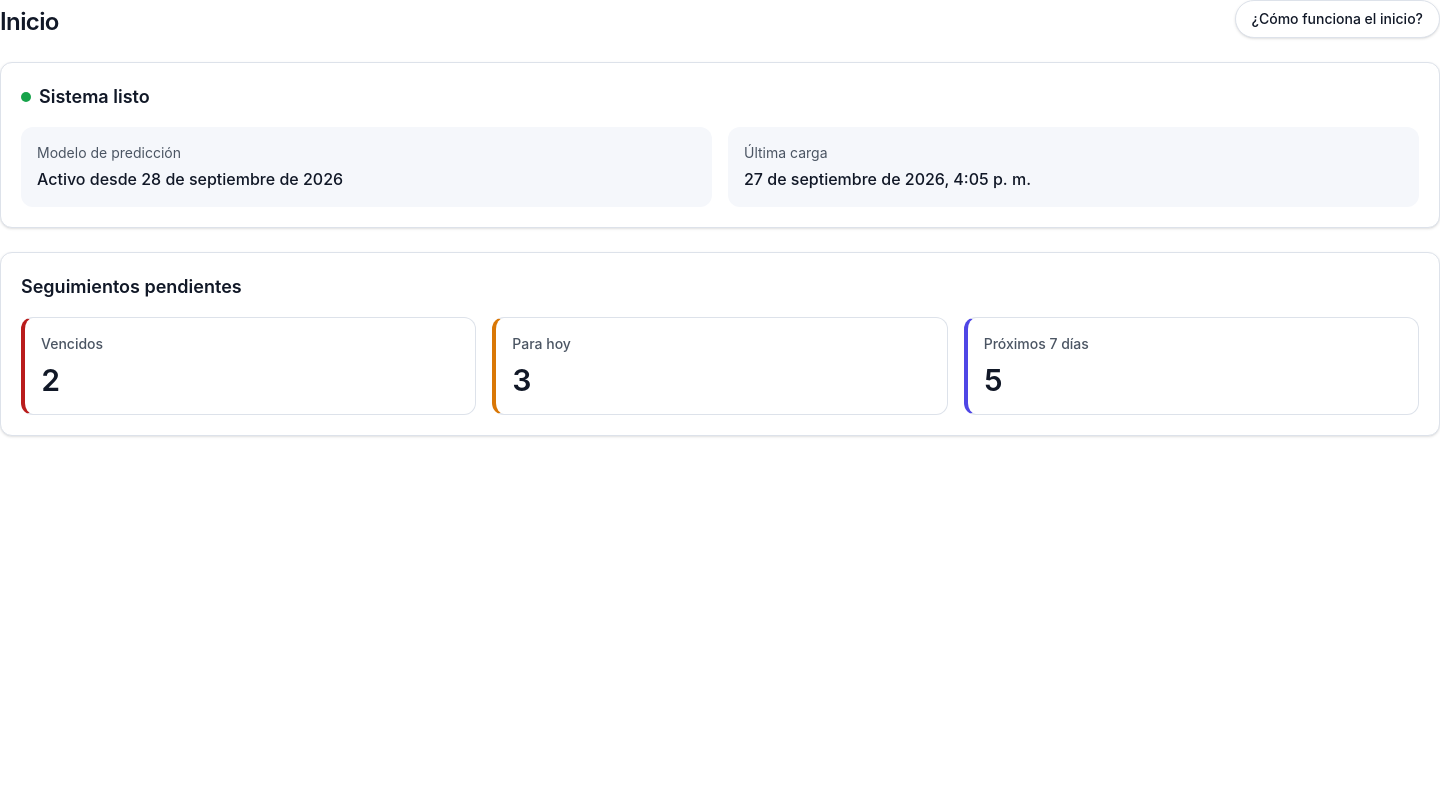
InicioPage › ayuda "¿Cómo funciona el inicio?" (R-012) › LISTO → el boton esta junto al titulo y abre su ayuda; al cerrar vuelve el foco
Expected: the text "Sistema listo" is shown, x1=21 y1=86 x2=150 y2=107
Click the button "¿Cómo funciona el inicio?" at {"x": 1337, "y": 19}, box x1=1234 y1=0 x2=1439 y2=38
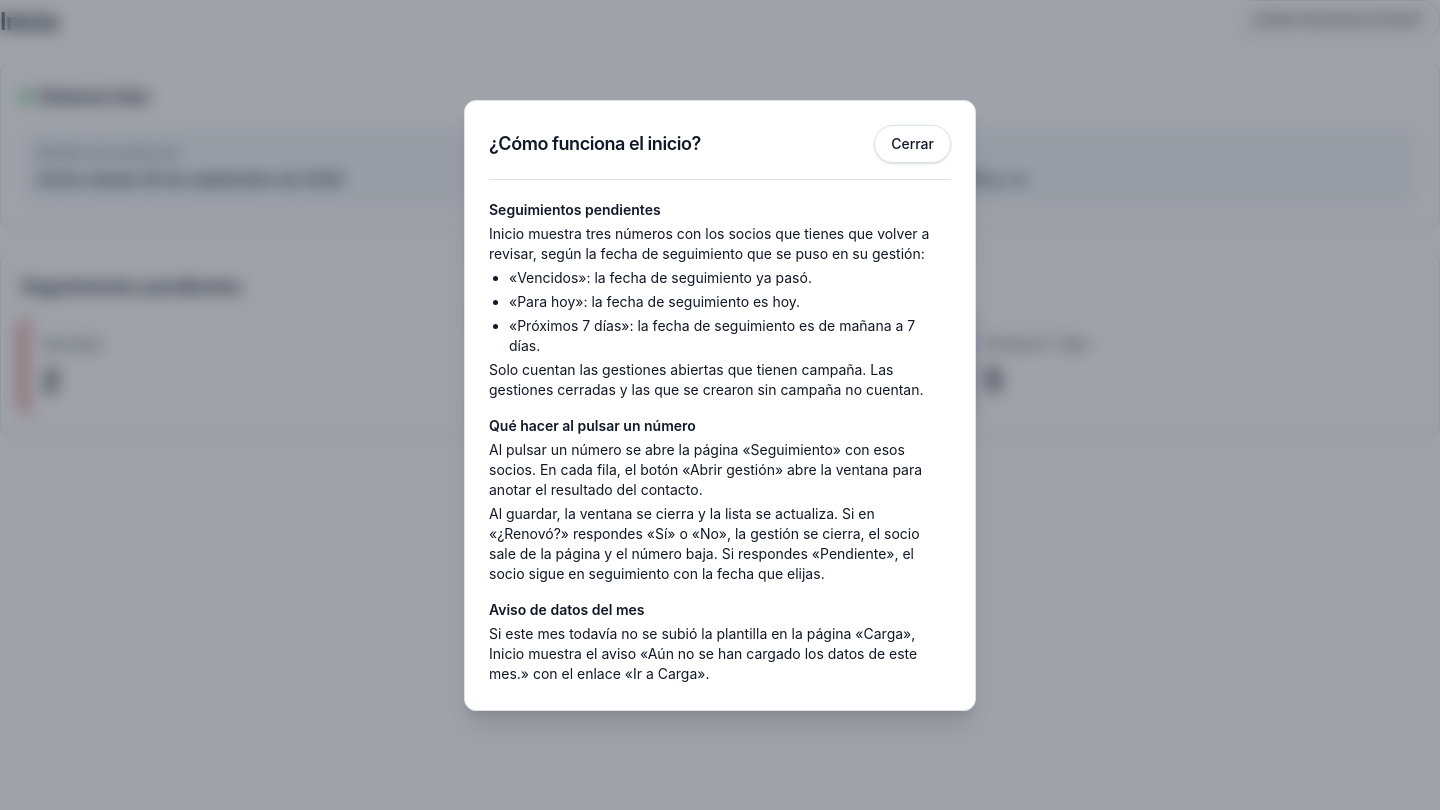
Expected: the dialog "¿Cómo funciona el inicio?" shows "Seguimientos pendientes", x1=489 y1=200 x2=661 y2=218
Press Escape
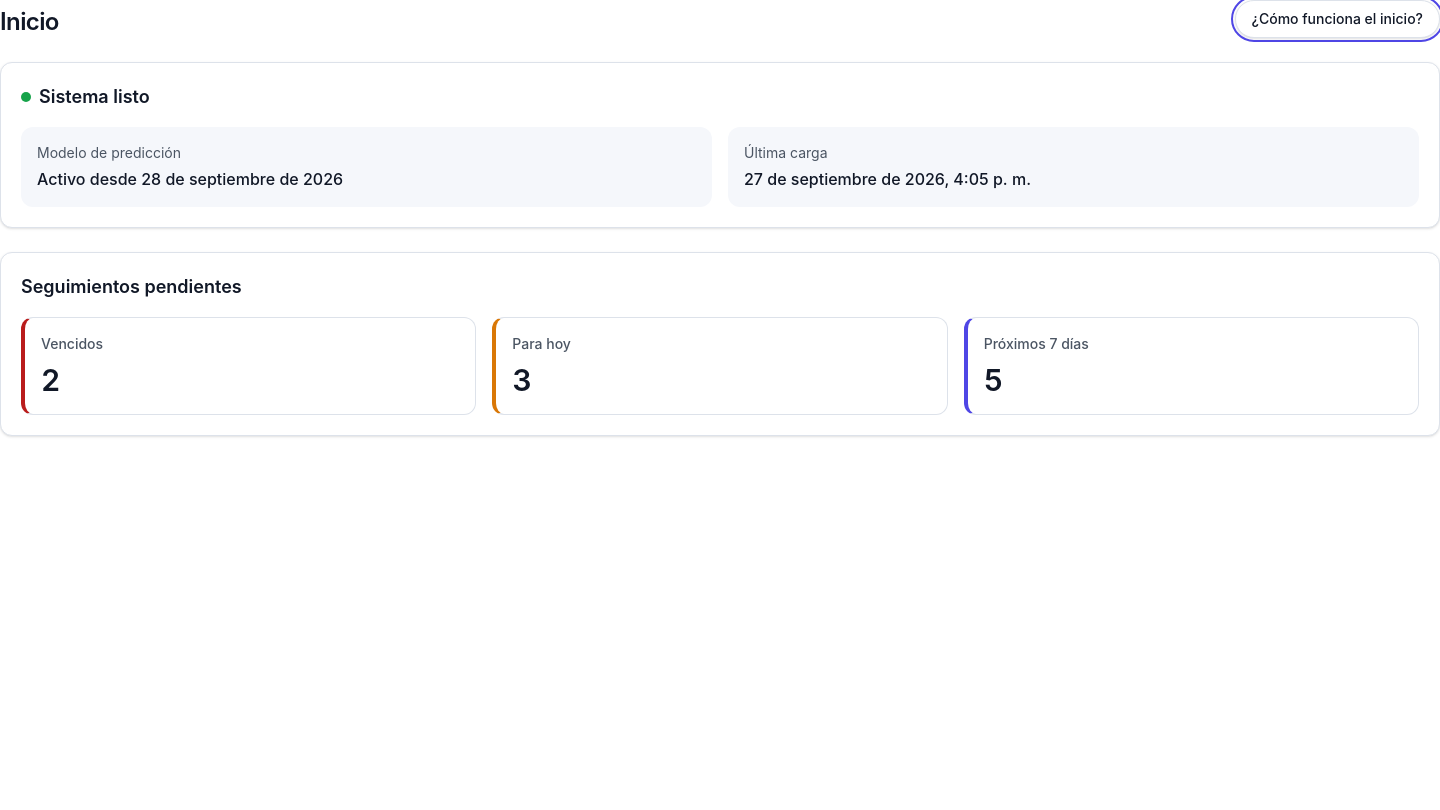
Expected: the dialog is gone
